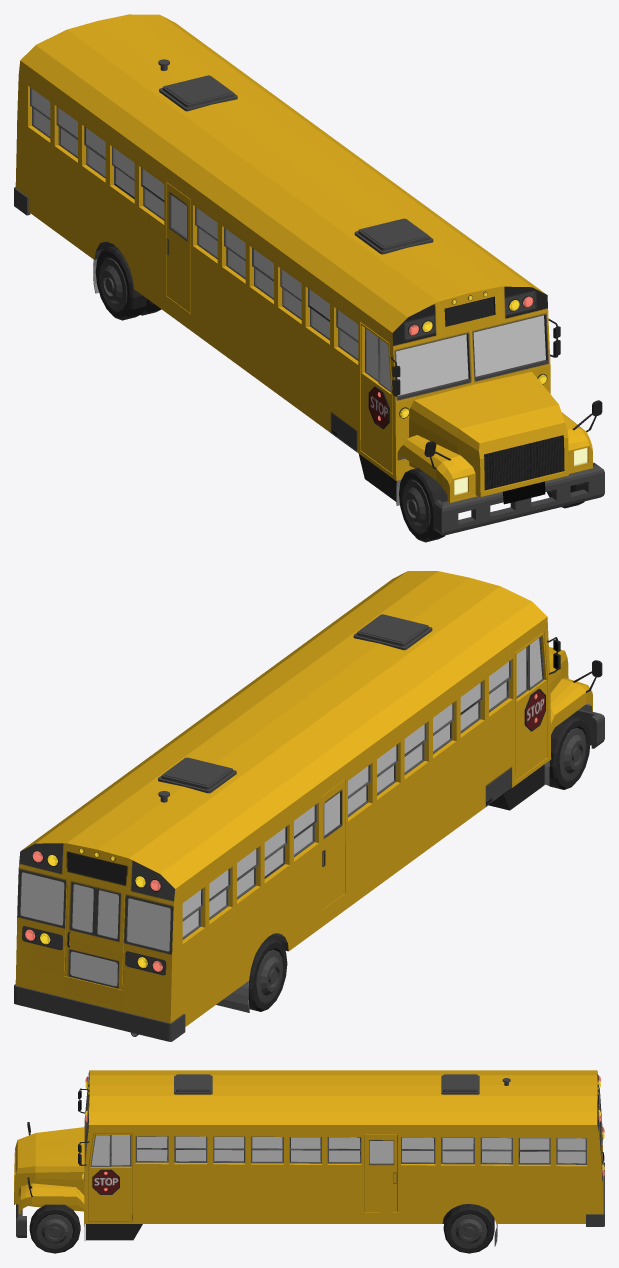
The model's file is Driving_Sim_Model_SchoolBus.fbx.
3 renders of one model, top to bottom at view 1: azimuth 30°, elevation 25°; view 2: azimuth 150°, elevation 25°; view 3: azimuth 270°, elevation 25°, orthographic. The views are drawn at different scales.
Parts seen in each view (by area): view 1: polySurface2, polySurface12, polySurface3, polySurface1, polySurface116, polySurface117, polySurface66, polySurface64, polySurface84, polySurface67, polySurface65, polySurface98 (+11 smaller); view 2: polySurface2, polySurface25, polySurface116, polySurface117, polySurface3, polySurface64, polySurface84, polySurface66, polySurface65, polySurface67, polySurface107, polySurface104 (+12 smaller); view 3: polySurface2, polySurface3, polySurface83, polySurface26, polySurface28, polySurface29, polySurface27, polySurface93, polySurface91, polySurface87, polySurface89, polySurface95 (+12 smaller).
Boxes of the visible parts, x1,y1,x2,y2 form: polySurface2: (15,14,568,496); polySurface12: (433,462,604,535); polySurface3: (397,412,592,502); polySurface1: (484,435,564,490); polySurface116: (354,218,433,254); polySurface117: (159,75,237,111); polySurface66: (95,246,147,320); polySurface64: (399,468,447,542); polySurface84: (365,328,391,392); polySurface67: (100,258,127,310); polySurface65: (403,480,430,532); polySurface98: (141,167,164,220); polySurface2: (15,571,568,1026); polySurface25: (14,984,185,1041); polySurface116: (353,614,432,650); polySurface117: (158,757,236,793); polySurface3: (550,678,592,734); polySurface64: (548,715,590,789); polySurface84: (516,636,544,698); polySurface66: (248,937,287,1011); polySurface65: (559,727,586,779); polySurface67: (255,949,282,1001); polySurface107: (489,764,544,810); polySurface104: (264,826,287,878); polySurface2: (14,1070,603,1223); polySurface3: (18,1183,84,1214); polySurface83: (90,1135,131,1166); polySurface26: (29,1204,80,1253); polySurface28: (443,1204,494,1253); polySurface29: (451,1214,487,1247); polySurface27: (37,1214,73,1247); polySurface93: (441,1137,474,1164); polySurface91: (327,1137,361,1163); polySurface87: (401,1137,435,1163); polySurface89: (135,1136,168,1162); polySurface95: (174,1136,207,1162).
Bounding box in the file's own units: 2.46 × 2.89 × 10.43.
